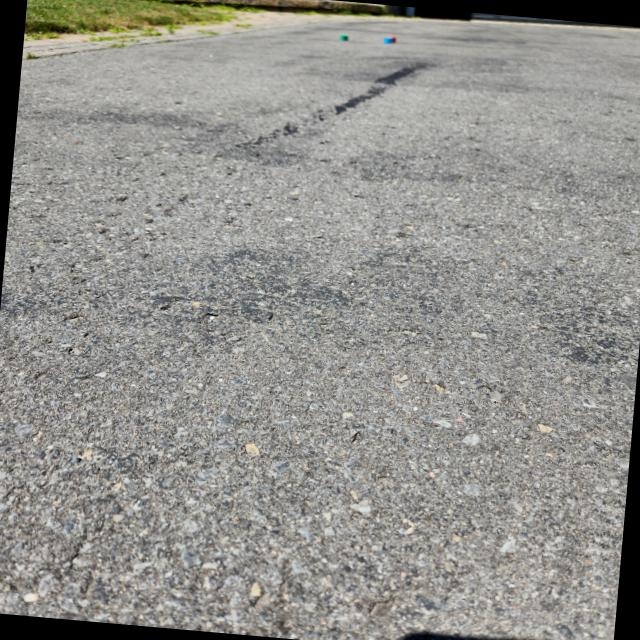bluecube: (383, 38, 392, 43)
green cube: (340, 35, 348, 40)
red cube: (387, 36, 395, 42)
